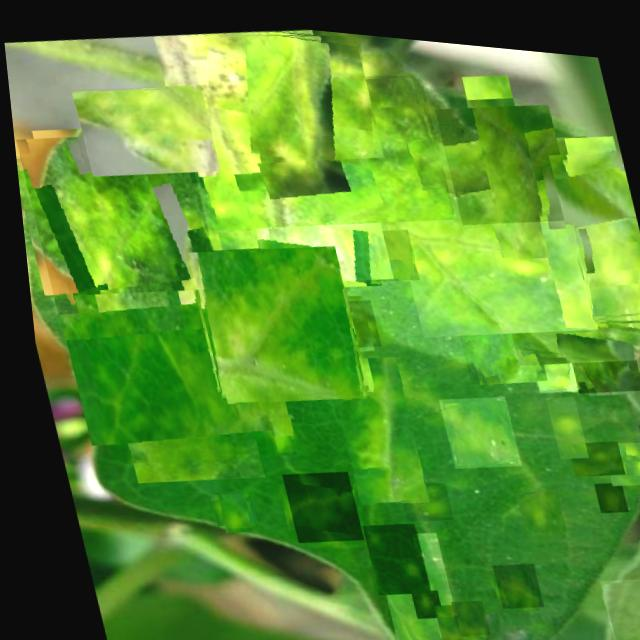leaf_spot: (172, 47, 455, 244), (11, 115, 223, 325), (66, 270, 271, 474), (381, 149, 594, 342), (180, 227, 365, 411), (186, 14, 383, 172), (233, 132, 390, 288), (432, 84, 574, 224), (490, 239, 640, 365), (69, 70, 219, 184), (319, 344, 420, 503), (534, 196, 640, 319), (360, 519, 452, 640), (545, 133, 639, 238), (446, 285, 541, 380), (430, 381, 513, 465), (272, 459, 354, 542), (556, 304, 637, 387), (352, 511, 421, 592), (587, 551, 640, 640), (354, 217, 415, 277), (421, 590, 485, 640), (319, 289, 375, 344), (538, 383, 580, 449), (480, 550, 532, 602), (387, 470, 444, 517), (559, 424, 618, 469), (506, 476, 557, 526), (593, 426, 640, 477), (524, 339, 575, 385), (202, 485, 244, 527), (247, 409, 289, 451), (439, 589, 478, 630), (584, 468, 619, 503), (399, 580, 431, 612), (400, 631, 433, 640)
